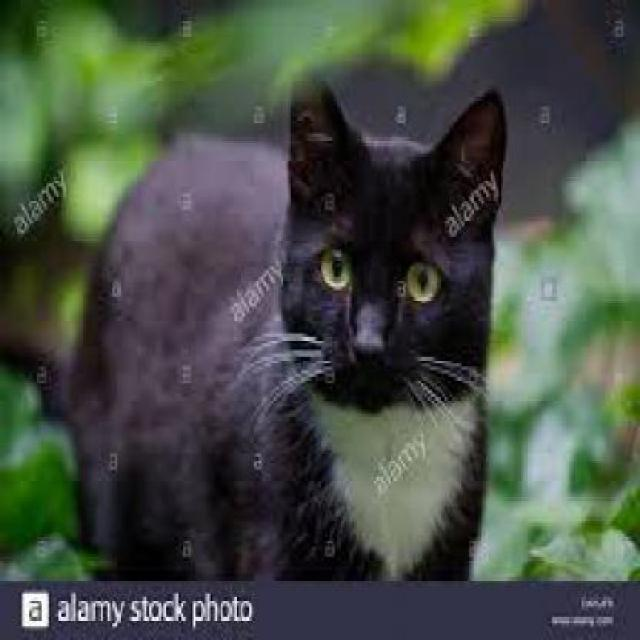animals: (80, 64, 523, 567)
